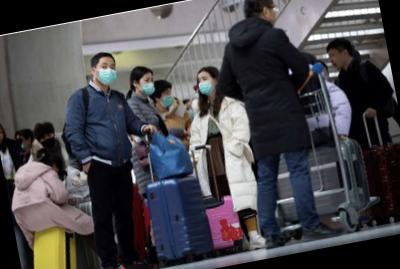with_mask: (94, 58, 120, 87), (195, 74, 217, 97), (137, 74, 158, 96), (158, 87, 175, 109), (38, 131, 58, 149)
without_mask: (327, 49, 345, 70), (268, 4, 281, 24)
